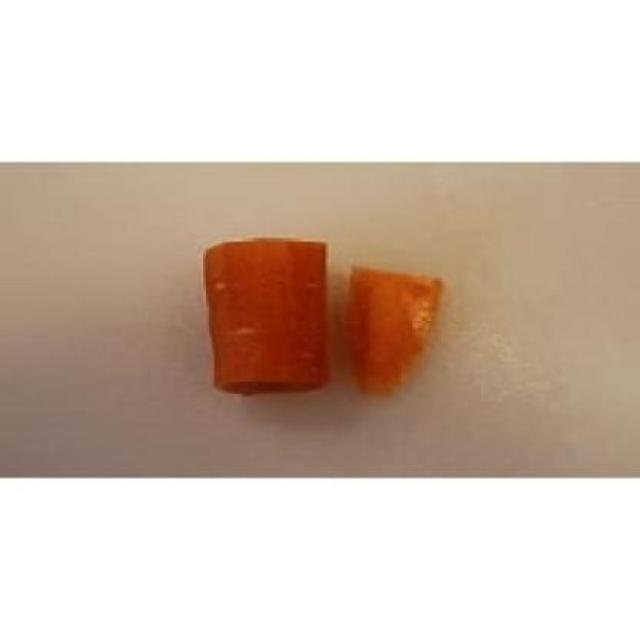carrot: (167, 212, 346, 418)
